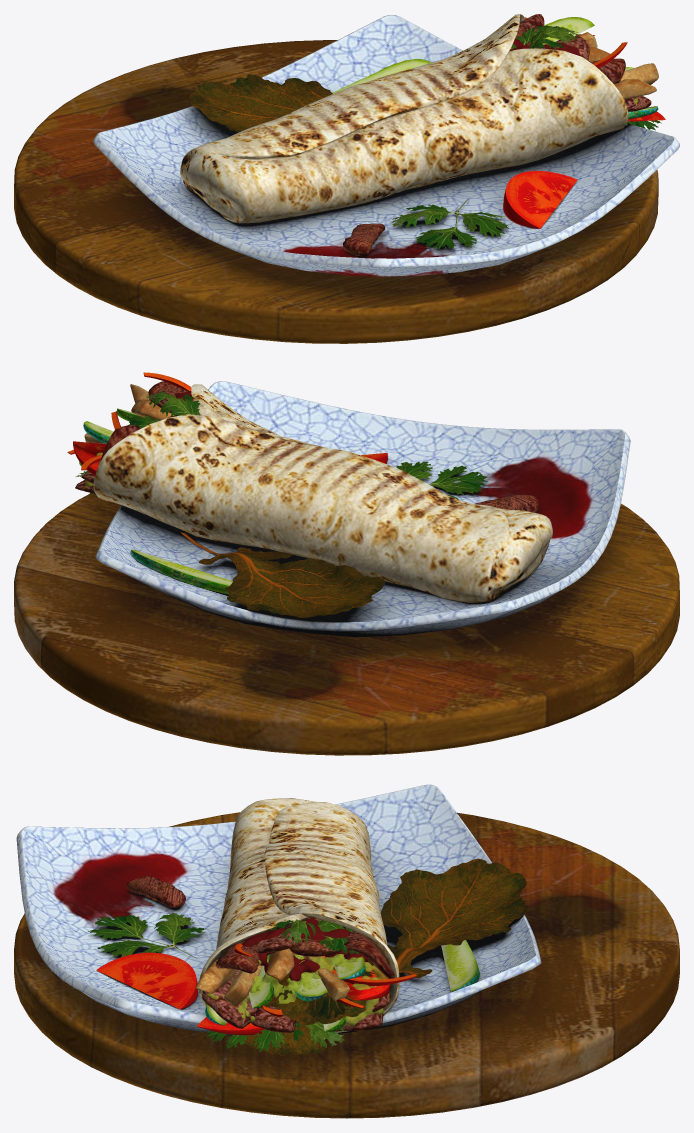
Rendered from shwarma.gltf.
3 views of the same model, one above another, from view 1: azimuth 30°, elevation 25°; view 2: azimuth 150°, elevation 25°; view 3: azimuth 270°, elevation 25° (orthographic). The views are drawn at different scales.
Visible parts, largest first — view 1: Table, shava.002, tarelka, salat032, tomato, petrushka23, potato, petrushka030, meat24, ogurec33, ogurec013; view 2: Table, shava.002, tarelka, salat032, ogurec33, petrushka23, petrushka030, meat24, potato, tomato_3; view 3: Table, tarelka, shava.002, salat032, tomato, petrushka23, cheez, potato, mayonez, ogurec33, salat19, meat016 (+18 smaller).
Part boxes in pixels (<box>): Table: <box>14,40,658,343</box>; shava.002: <box>180,14,628,223</box>; tarelka: <box>93,15,679,276</box>; salat032: <box>189,74,332,132</box>; tomato: <box>503,171,577,228</box>; petrushka23: <box>392,199,509,249</box>; potato: <box>588,47,658,99</box>; petrushka030: <box>510,25,578,65</box>; meat24: <box>343,223,385,256</box>; ogurec33: <box>332,59,431,93</box>; ogurec013: <box>543,17,594,44</box>; Table: <box>14,493,679,755</box>; shava.002: <box>93,384,552,602</box>; tarelka: <box>95,381,630,637</box>; salat032: <box>181,532,385,617</box>; ogurec33: <box>130,549,232,594</box>; petrushka23: <box>396,461,487,499</box>; petrushka030: <box>128,391,199,428</box>; meat24: <box>475,494,538,512</box>; potato: <box>130,384,173,420</box>; tomato_3: <box>73,441,106,475</box>; Table: <box>14,812,679,1118</box>; tarelka: <box>16,784,541,1035</box>; shava.002: <box>199,798,399,1032</box>; salat032: <box>367,858,527,978</box>; tomato: <box>96,952,197,1009</box>; petrushka23: <box>88,913,206,958</box>; cheez: <box>205,954,387,1026</box>; potato: <box>195,948,294,1006</box>; mayonez: <box>242,918,368,981</box>; ogurec33: <box>441,940,479,991</box>; salat19: <box>261,963,369,1024</box>; meat016: <box>202,970,256,1028</box>.
Bounding box in the file's own units: 0.353 × 0.0903 × 0.3527.
Materials: 6 (5 with a texture image).
